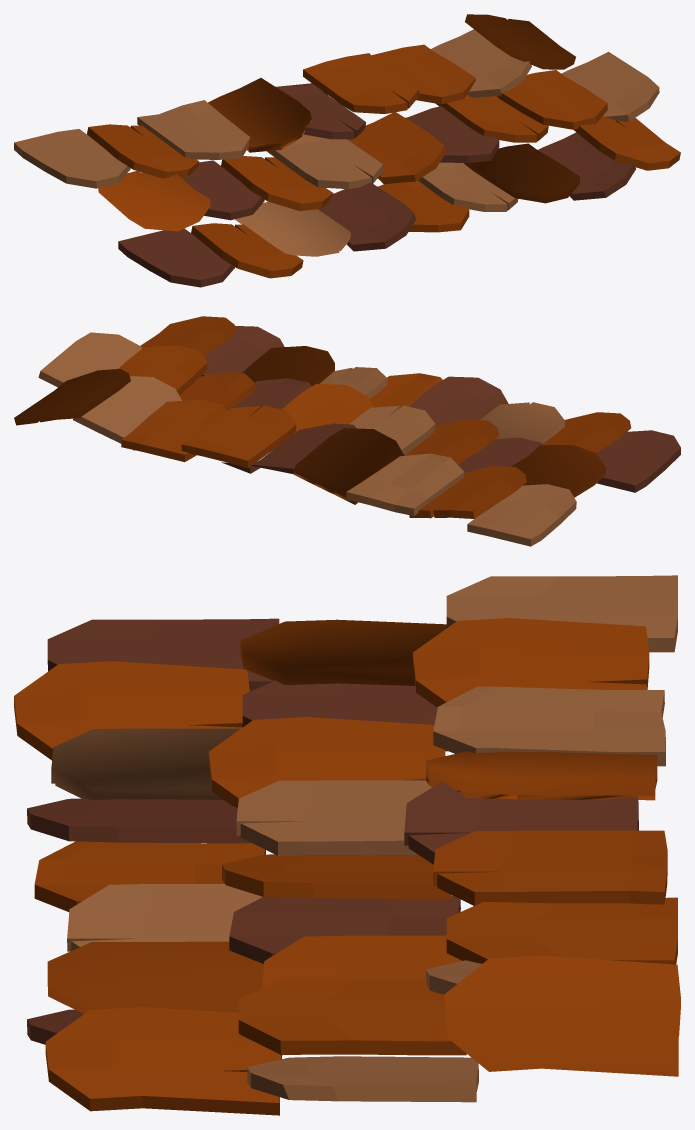
The model's file is tiles.fbx.
3 views of the same model, one above another, from view 1: azimuth 30°, elevation 25°; view 2: azimuth 150°, elevation 25°; view 3: azimuth 270°, elevation 25° (orthographic). The views are drawn at different scales.
Visible parts, largest first — view 1: Plane.002; view 2: Plane.002; view 3: Plane.002.
Boxes of the visible parts, x1,y1,x2,y2 form: Plane.002: (14, 14, 680, 287); Plane.002: (14, 316, 680, 546); Plane.002: (14, 575, 680, 1115).
Size of the model in its own units: 248 by 25.85 by 137.
